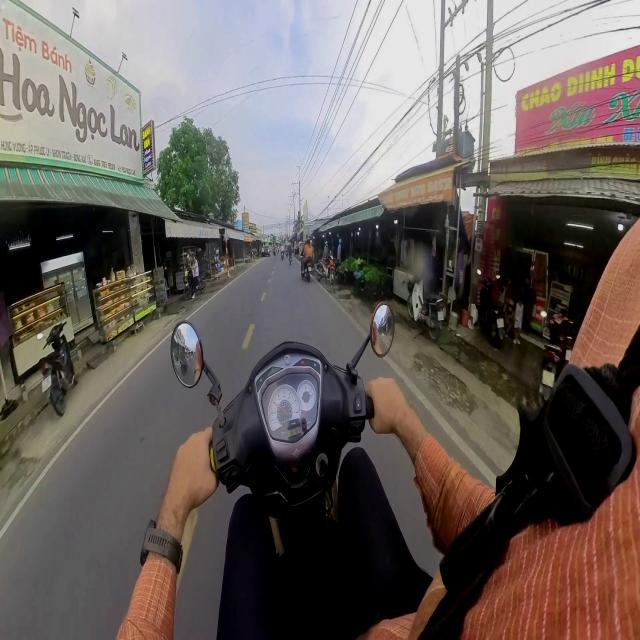car: (262, 246, 270, 256)
motorcycle: (171, 303, 394, 638), (40, 323, 75, 416), (539, 311, 573, 401), (407, 281, 444, 340), (478, 278, 505, 347), (184, 270, 205, 299), (301, 259, 311, 282), (280, 250, 284, 260)
